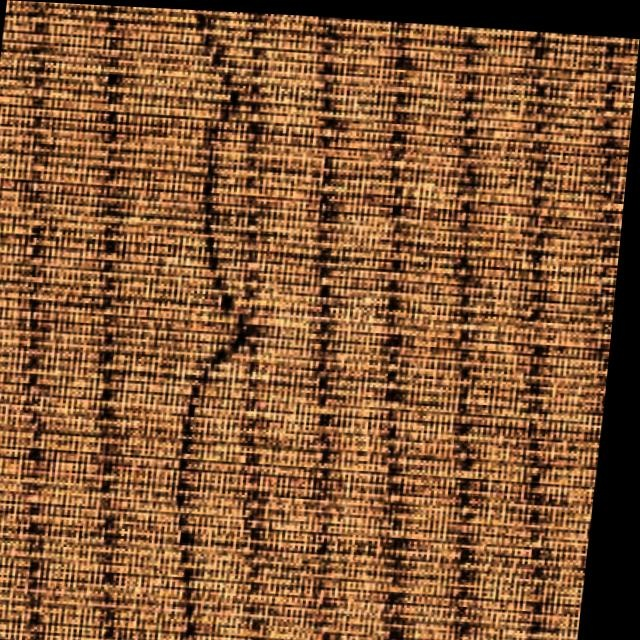Stitch: (101, 6, 326, 540)
